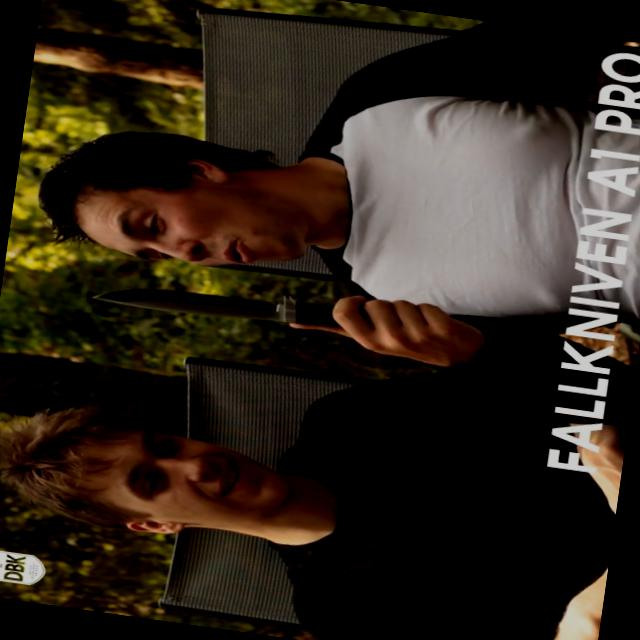knife: (74, 252, 418, 357)
